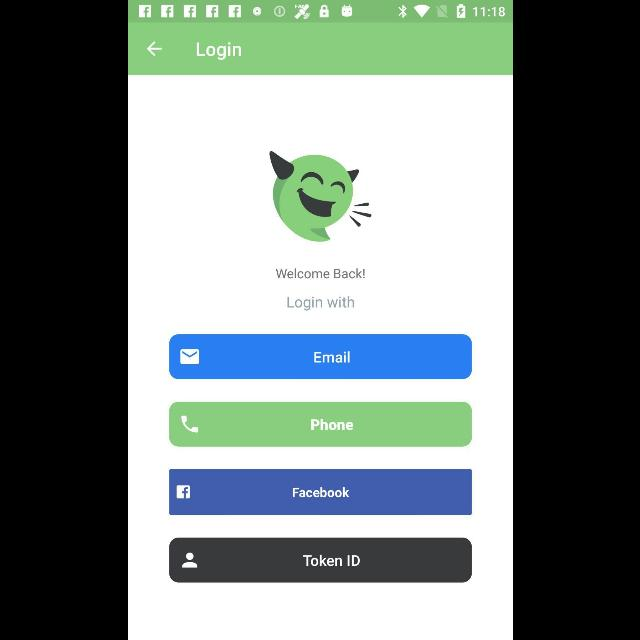icon: (146, 42, 162, 56)
image: (269, 152, 371, 242)
text: (286, 296, 354, 310), (274, 269, 364, 279), (196, 42, 240, 60)
textbutton: (168, 469, 472, 515), (169, 334, 471, 380), (169, 402, 471, 446), (169, 538, 471, 582)
toolbar: (128, 23, 510, 75)
uppertaskbar: (128, 1, 512, 23)
